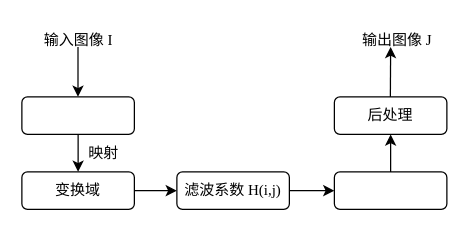
Some shapes in this 469 by 231 pixel diagram are drawn without their labels. The centre of each missing label's shape, as x and y in pixels:
"逆变换" belongs at [390,190].
"预处理" belongs at [77,115].
